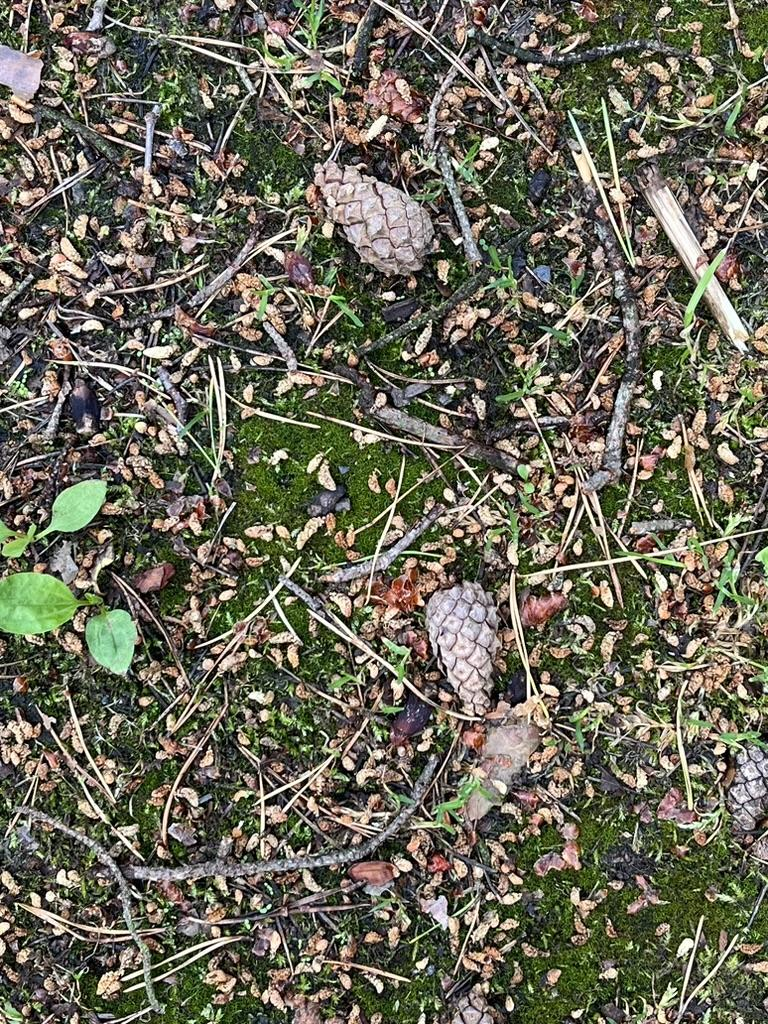pine: (304, 146, 454, 300), (421, 578, 521, 736), (716, 733, 768, 848), (436, 968, 538, 1024)
